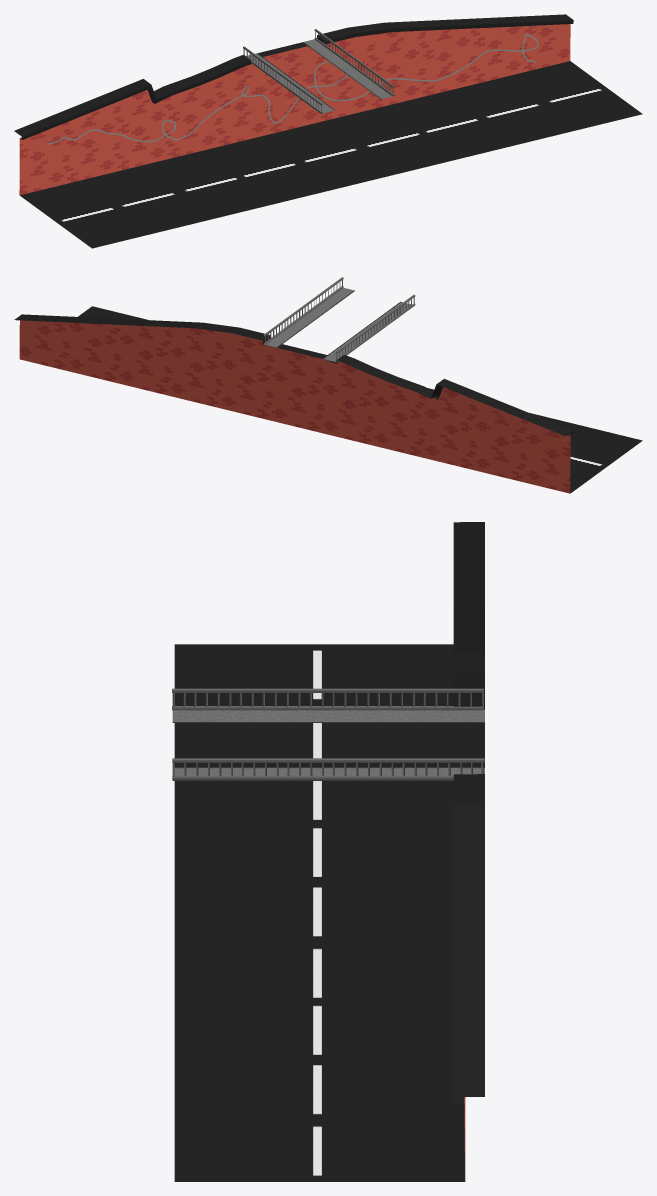
The model's file is Module 6.fbx.
3 renders of one model, top to bottom at view 1: azimuth 30°, elevation 25°; view 2: azimuth 150°, elevation 25°; view 3: azimuth 270°, elevation 25°, orthographic. The views are drawn at different scales.
Visible parts, largest first — view 1: Sixth Module; view 2: Sixth Module; view 3: Sixth Module.
Boxes of the visible parts, left/top/right/bottom form: Sixth Module: left=14, top=14, right=642, bottom=248; Sixth Module: left=14, top=277, right=642, bottom=493; Sixth Module: left=172, top=522, right=484, bottom=1181.
Size of the model in its own units: 3647 by 565 by 896.
